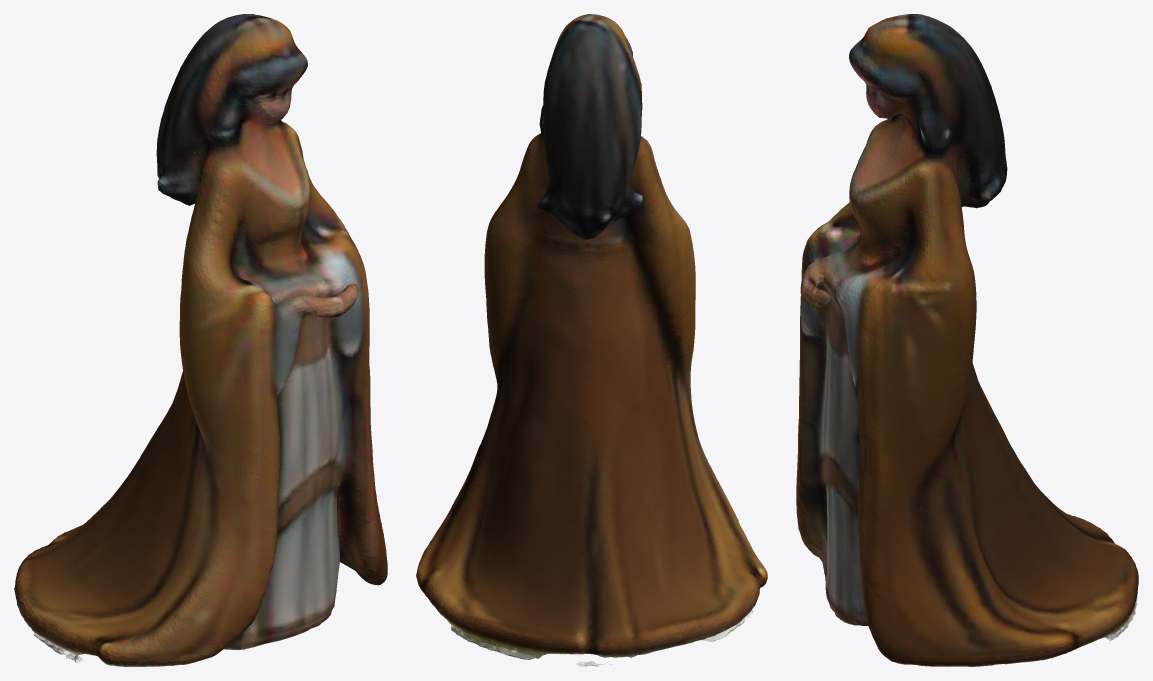
Rendered from mesh_with_colors.obj.
3 renders of one model, left to right at view 1: azimuth 30°, elevation 25°; view 2: azimuth 150°, elevation 25°; view 3: azimuth 270°, elevation 25°, orthographic. The views are drawn at different scales.
Size of the model in its own units: 0.5528 by 0.9835 by 0.5084.
